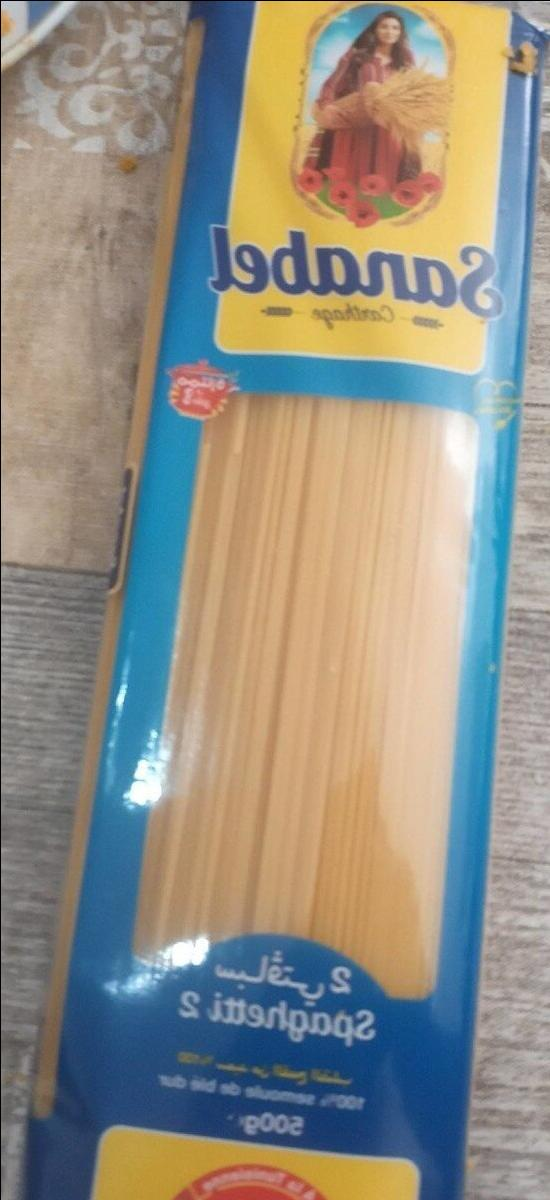Spaghetti: (27, 5, 539, 1200)
